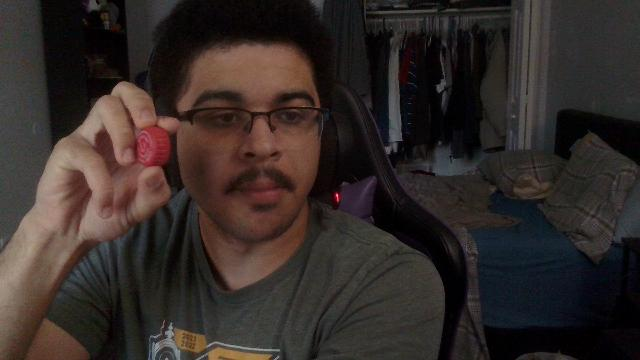cap: (137, 126, 169, 166)
